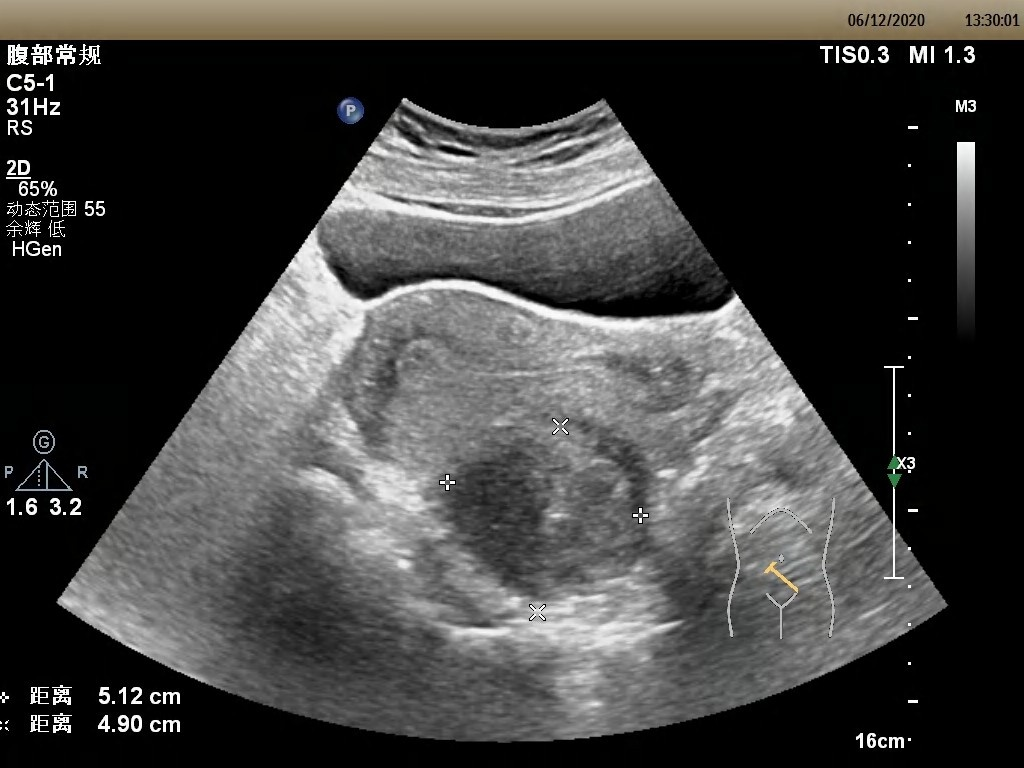肌瘤: (439, 421, 653, 609)
